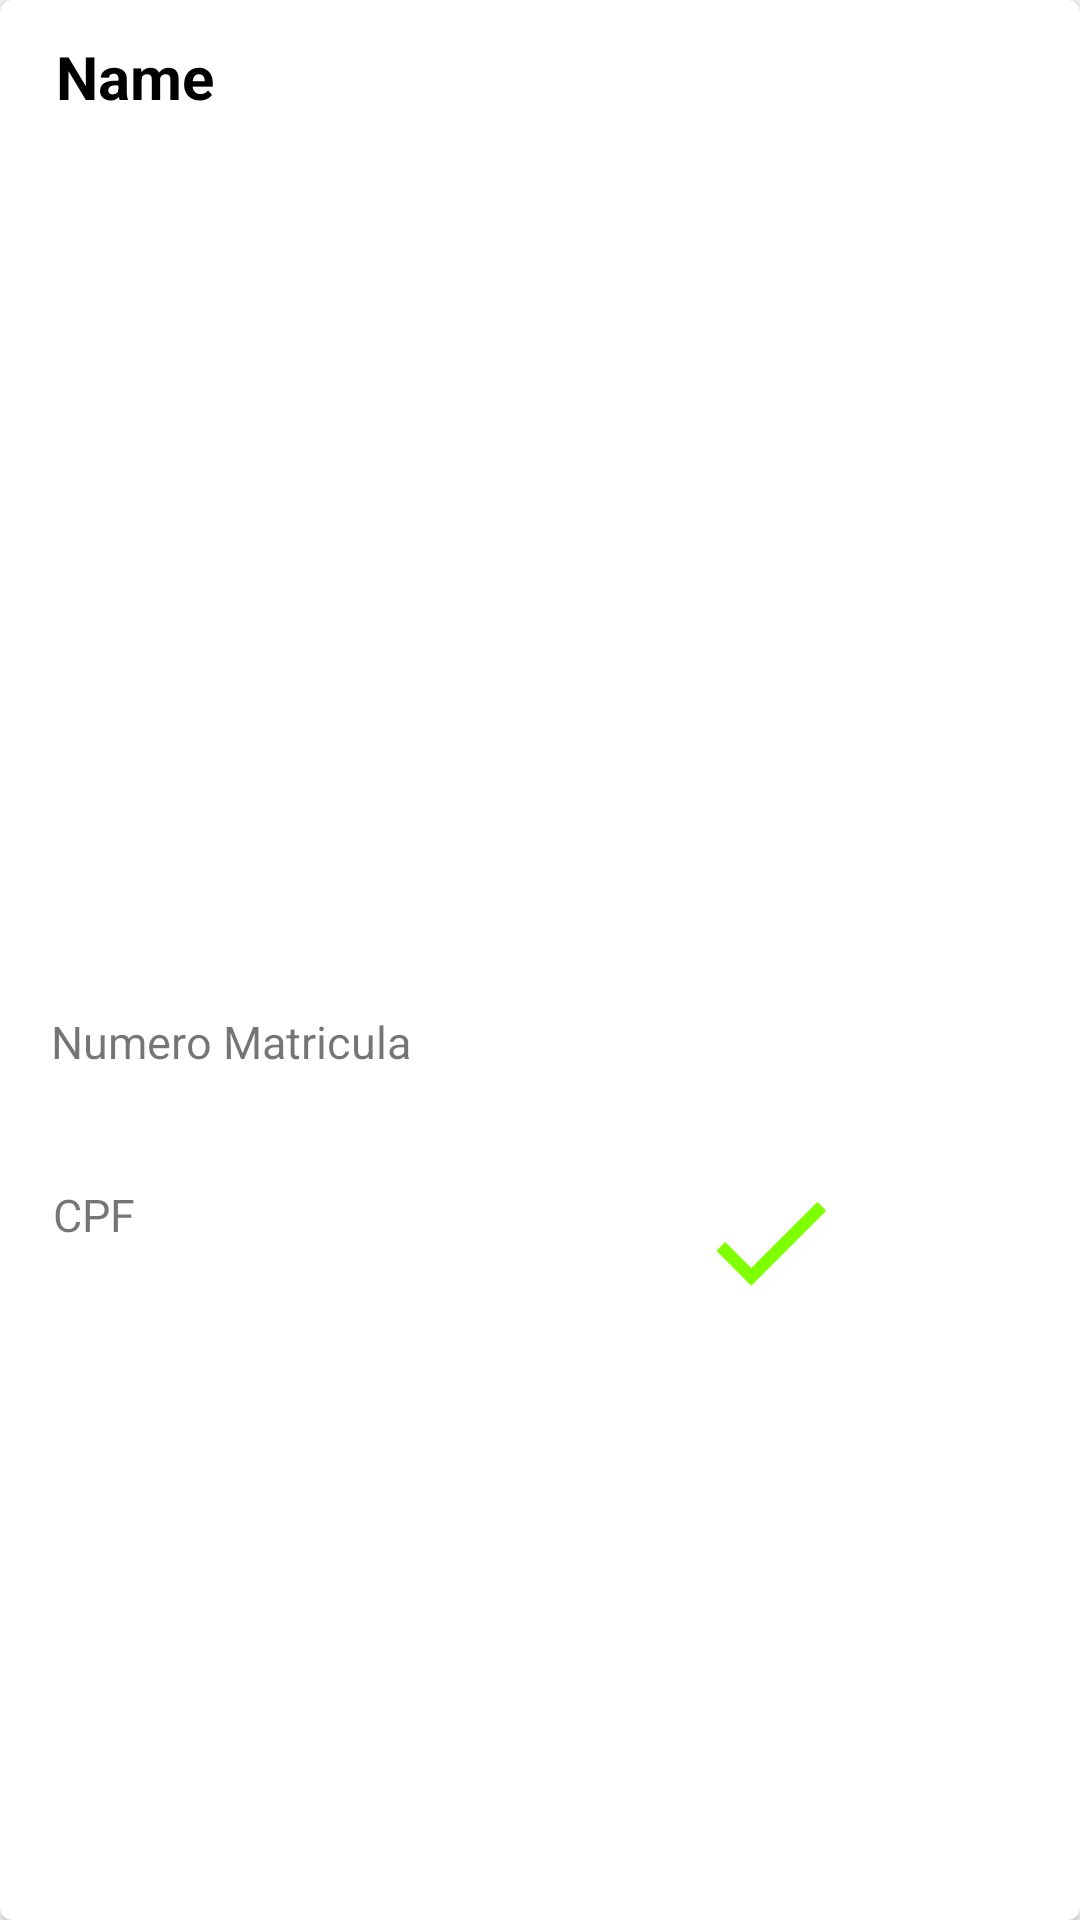

Screen size 1080*1920. Icon name, then its center in pixels as [x,y]:
check: [771,1244]
